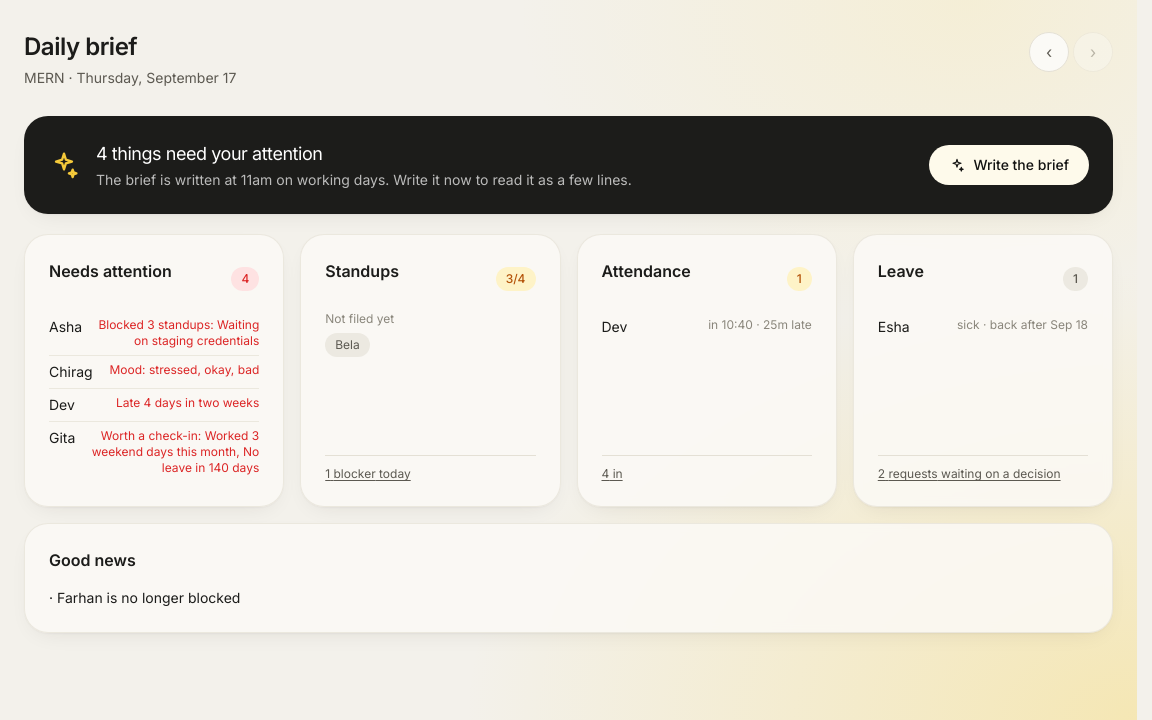
it: the daily brief › writes the brief on request and shows it
Click the button "Write the brief" at (1009, 165), box [929, 145, 1089, 185]
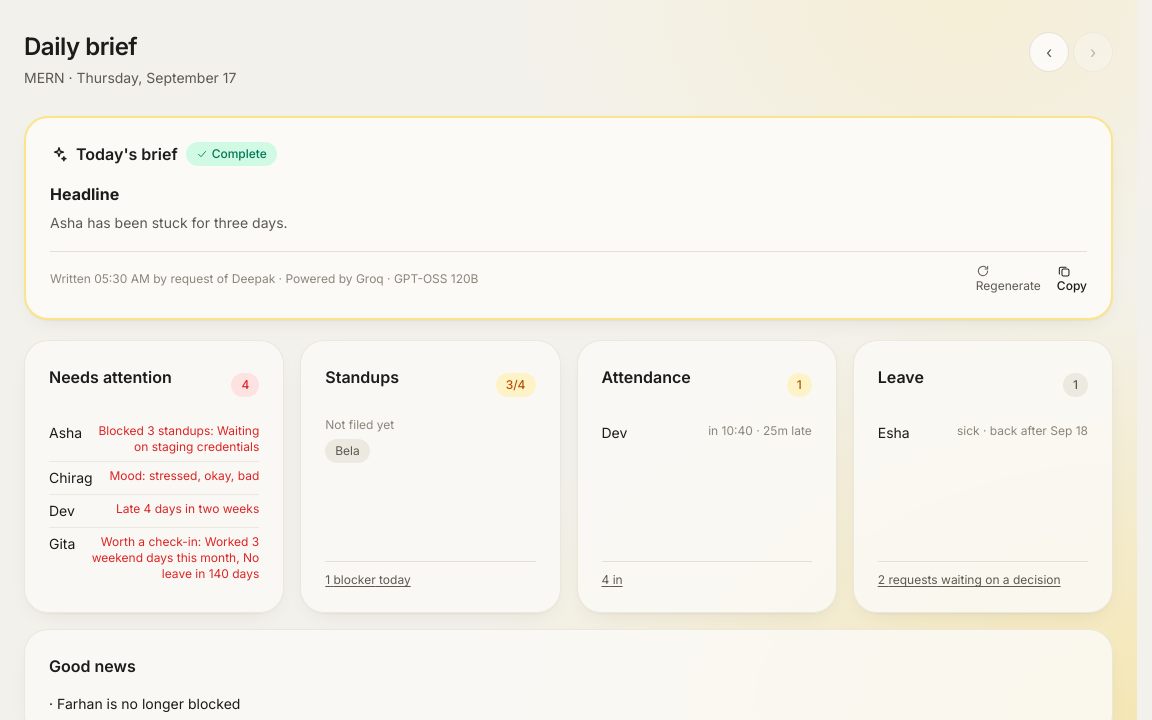
Check: the text "Asha has been stuck for three days." is shown, box [50, 214, 288, 231]
